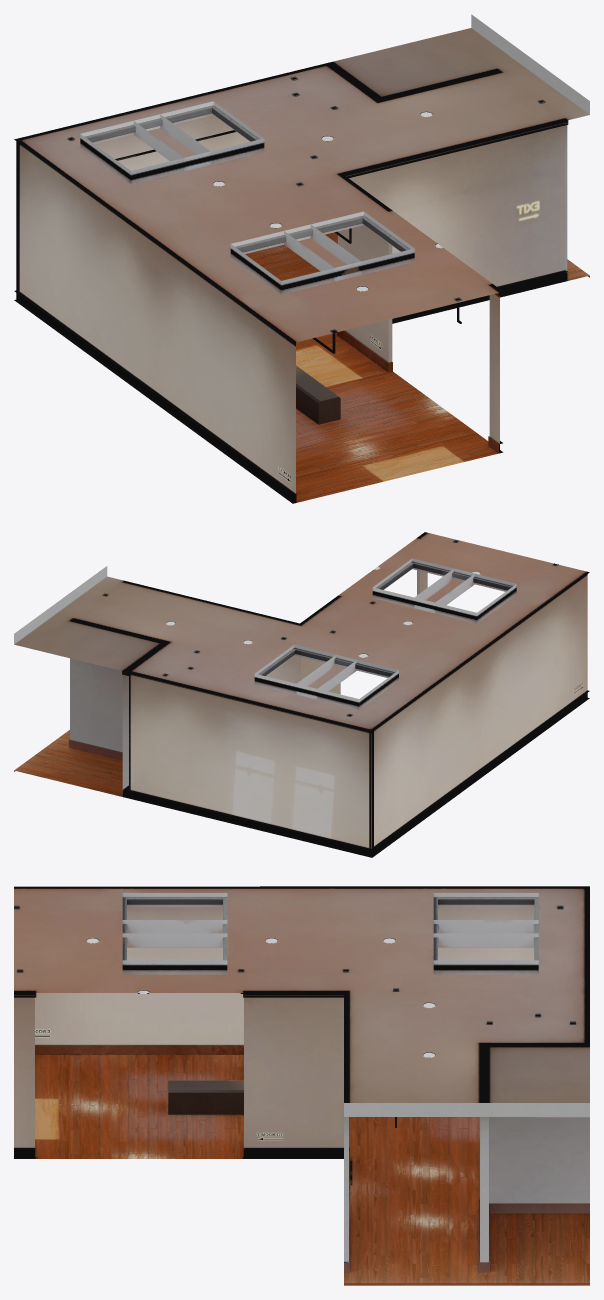
The model's file is room_8.glb.
3 renders of one model, top to bottom at view 1: azimuth 30°, elevation 25°; view 2: azimuth 150°, elevation 25°; view 3: azimuth 270°, elevation 25°, orthographic. The views are drawn at different scales.
Visible parts, largest first — view 1: room_8; view 2: room_8; view 3: room_8.
Part boxes in pixels (left/top/right/bottom): room_8: left=14, top=14, right=589, bottom=503; room_8: left=14, top=532, right=589, bottom=857; room_8: left=14, top=886, right=589, bottom=1285.
Size of the model in its own units: 10.42 by 3.85 by 10.99.
Materials: 2 (2 with a texture image).
